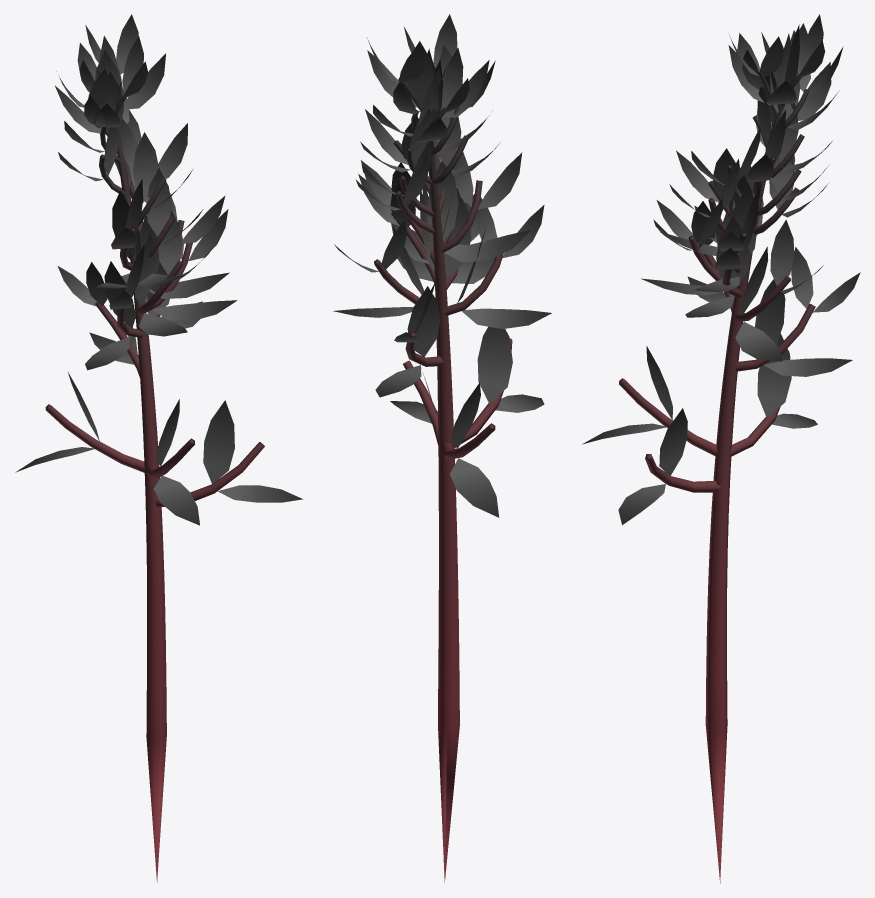
File: plants-bushes-twigs-leafy-twig_v7.fbx
3 renders of one model, left to right at view 1: azimuth 30°, elevation 25°; view 2: azimuth 150°, elevation 25°; view 3: azimuth 270°, elevation 25°, orthographic. The views are drawn at different scales.
Parts seen in each view (by area): view 1: Leafy Twig_v7; view 2: Leafy Twig_v7; view 3: Leafy Twig_v7.
Boxes of the visible parts, box(x1,y1,x2,y2) form: Leafy Twig_v7: box(15, 14, 302, 882); Leafy Twig_v7: box(333, 14, 551, 882); Leafy Twig_v7: box(582, 14, 860, 883).
Bounding box in the file's own units: 0.1483 × 0.6 × 0.1771.
